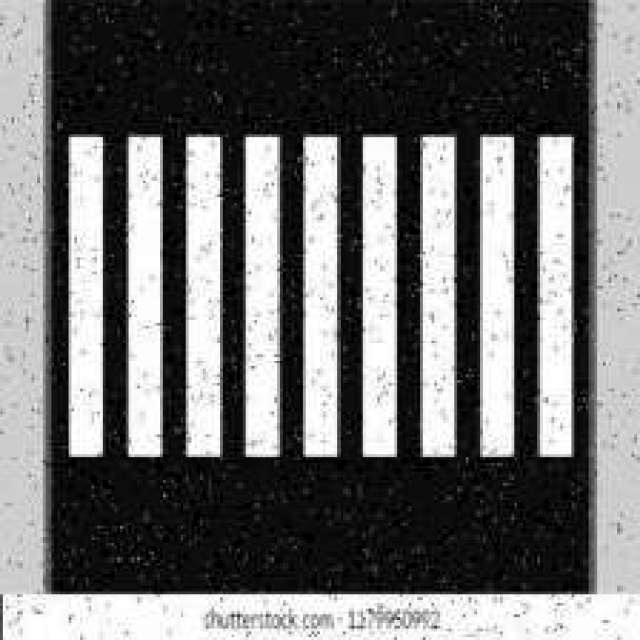crosswalk: (2, 122, 640, 478)
